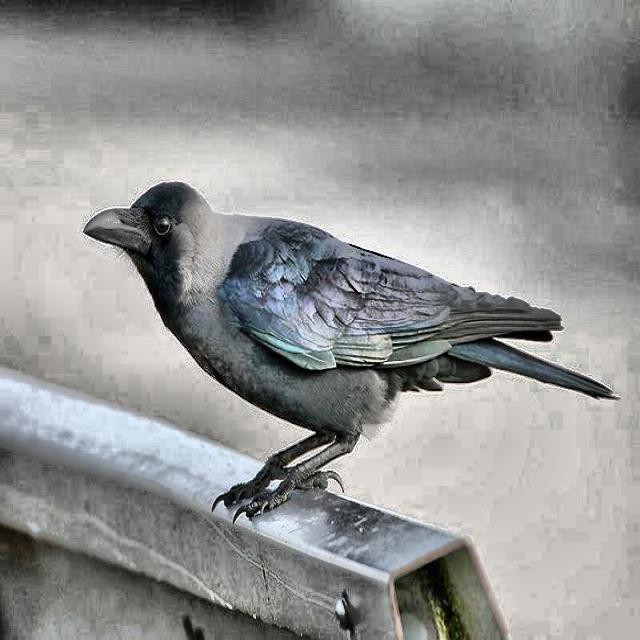crow: (85, 138, 616, 532)
